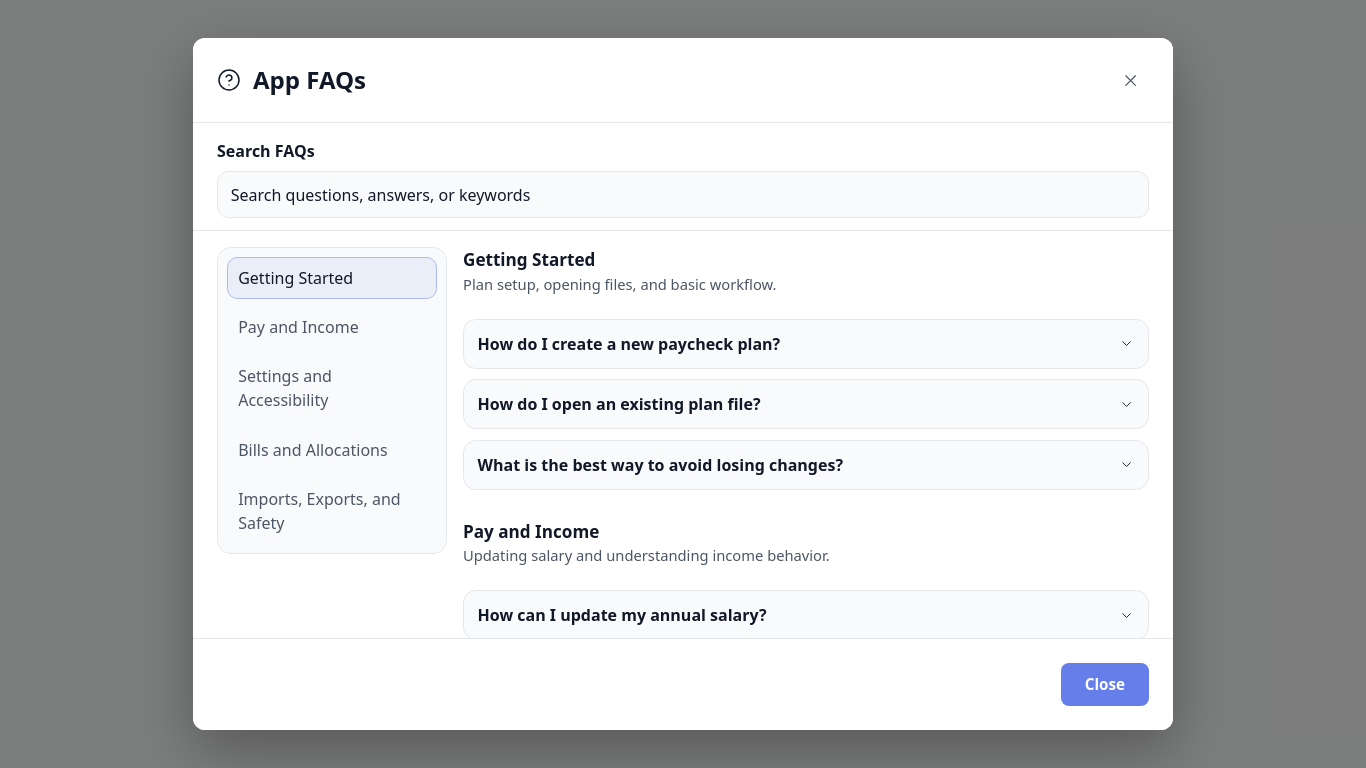
Test: AppFaqModal › filters by complex question keywords and keeps relevant result visible
Type "withholding auto other income" into the search field labelled "Search FAQs" at coordinates (683, 195), box [217, 171, 1149, 218]
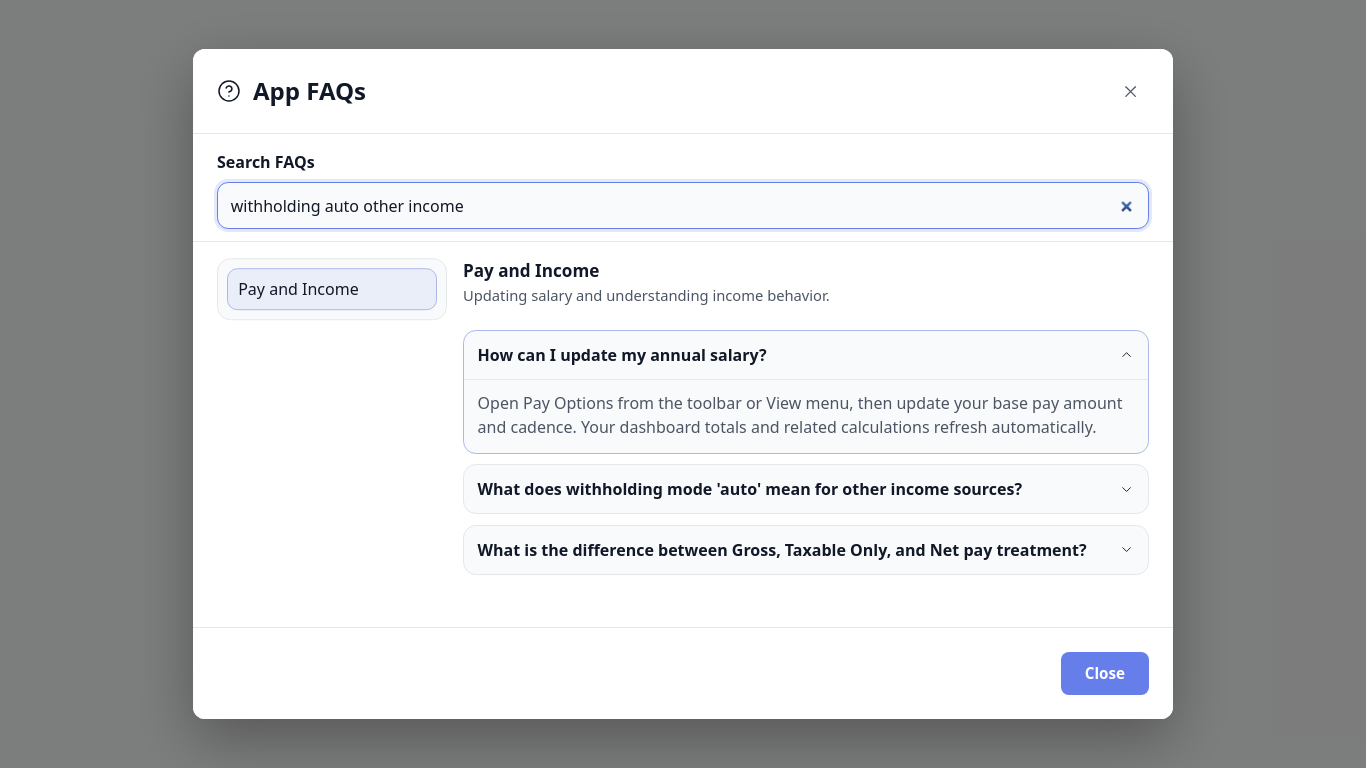
Now the button "What does withholding mode 'auto' mean for other income sources?" is shown, box [464, 465, 1148, 513]
